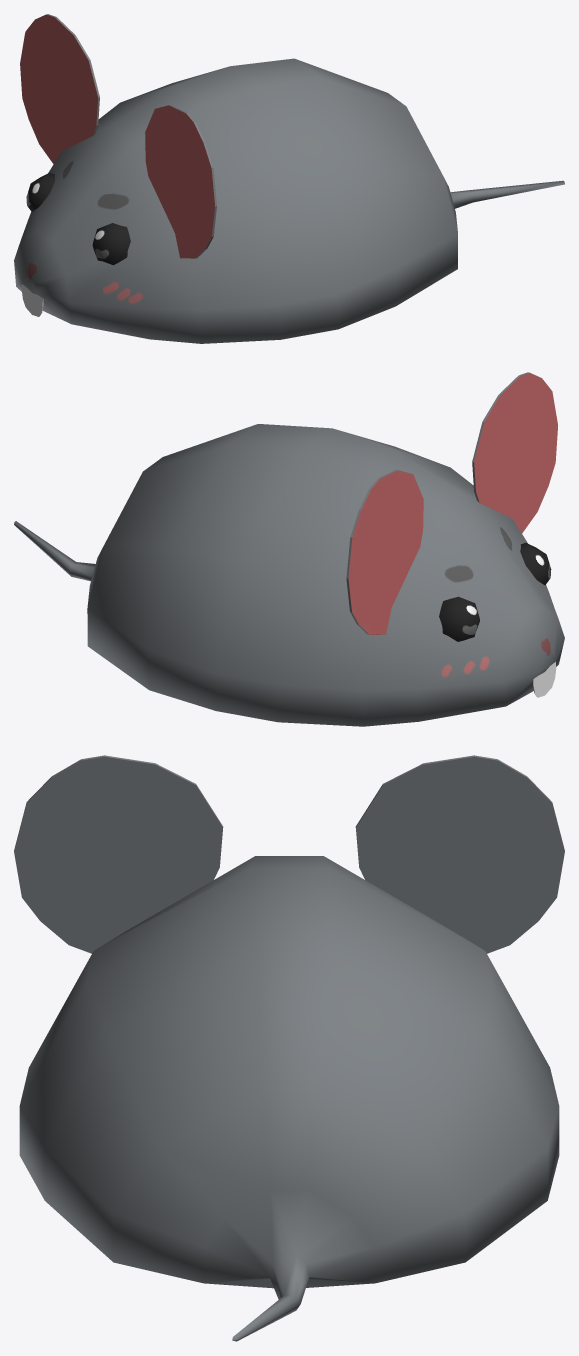
File: rat.fbx
3 renders of one model, top to bottom at view 1: azimuth 30°, elevation 25°; view 2: azimuth 150°, elevation 25°; view 3: azimuth 270°, elevation 25°, orthographic. The views are drawn at different scales.
Parts seen in each view (by area): view 1: Cylinder.009; view 2: Cylinder.009; view 3: Cylinder.009.
Boxes of the visible parts, x1,y1,x2,y2 form: Cylinder.009: (14, 14, 564, 343); Cylinder.009: (14, 372, 564, 726); Cylinder.009: (14, 755, 564, 1341).
Bounding box in the file's own units: 38.42 × 17.06 × 25.2.
Materials: 1 (1 with a texture image).
